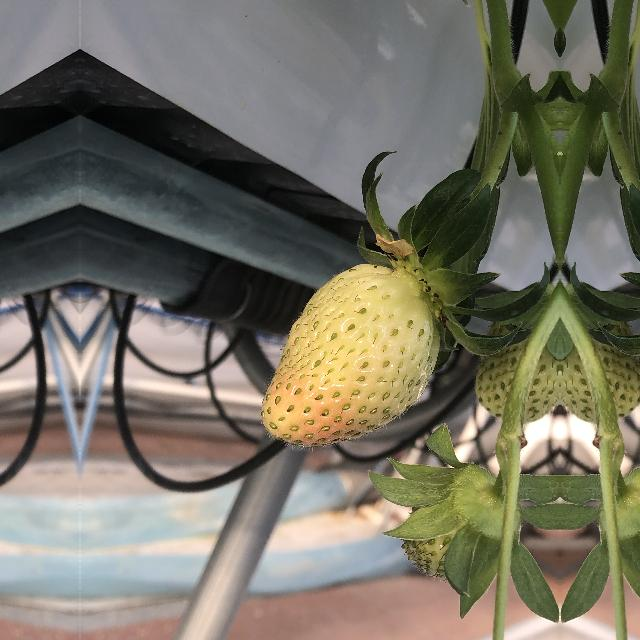Health_25: (474, 320, 560, 426), (560, 320, 640, 425)
Health_50: (256, 260, 444, 448)
